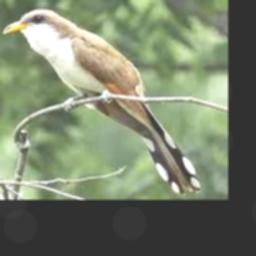Cuckoo: (4, 10, 201, 196)
